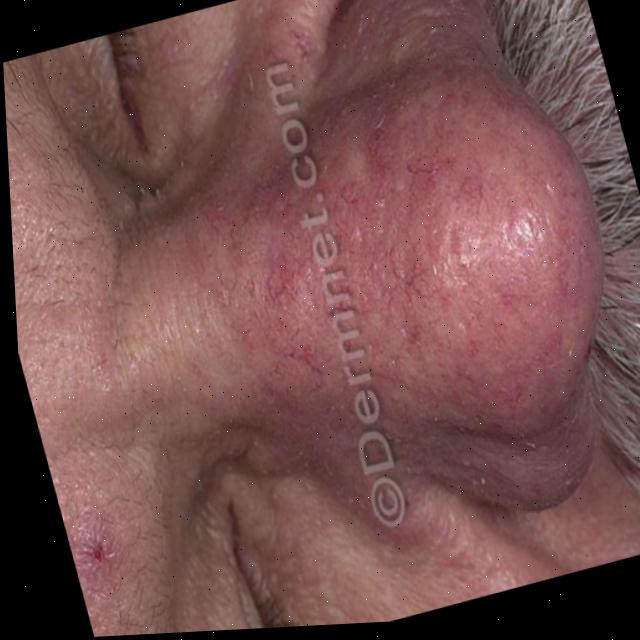Rosacea: (168, 0, 620, 562)
